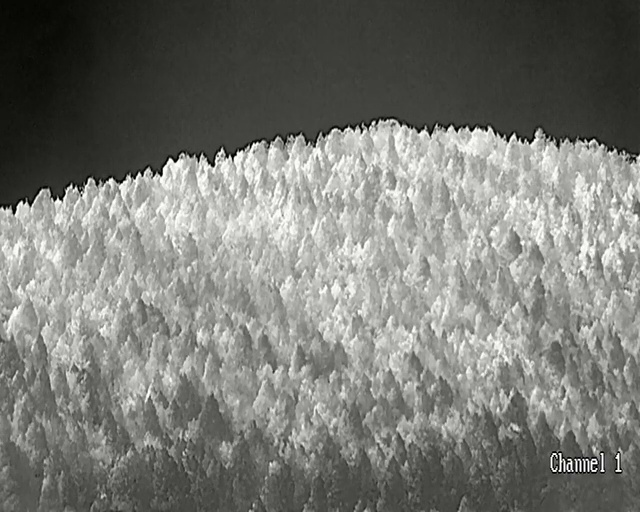uav: (631, 153, 636, 157)
